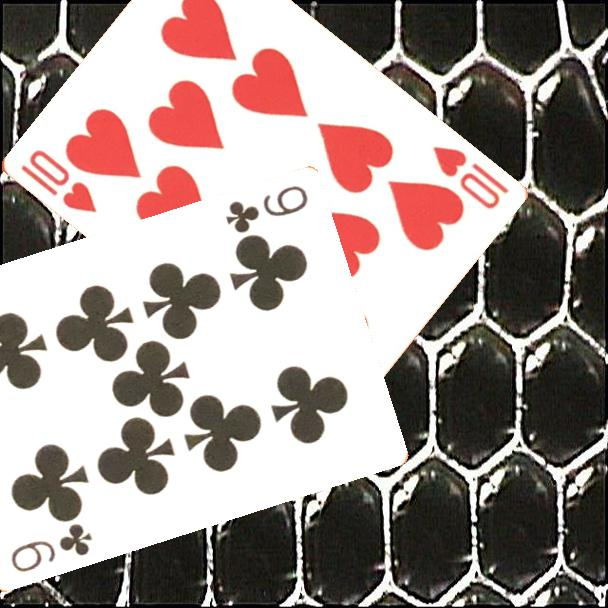c09: (7, 520, 95, 576), (222, 182, 311, 237)
h10: (428, 142, 512, 213), (16, 146, 100, 216)
